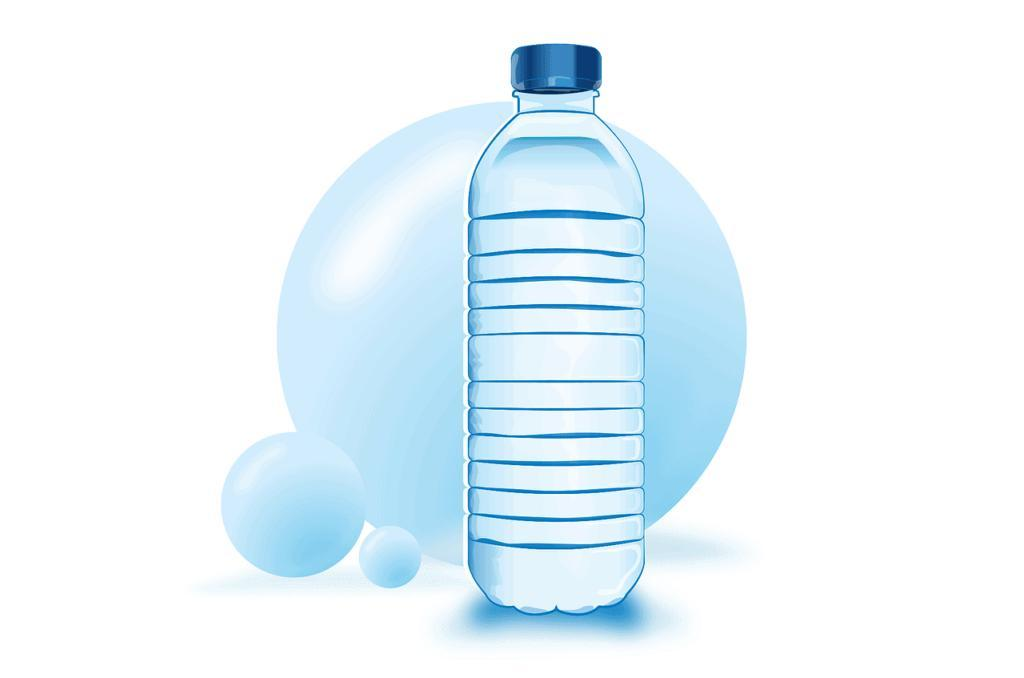bottle: (460, 40, 650, 628)
